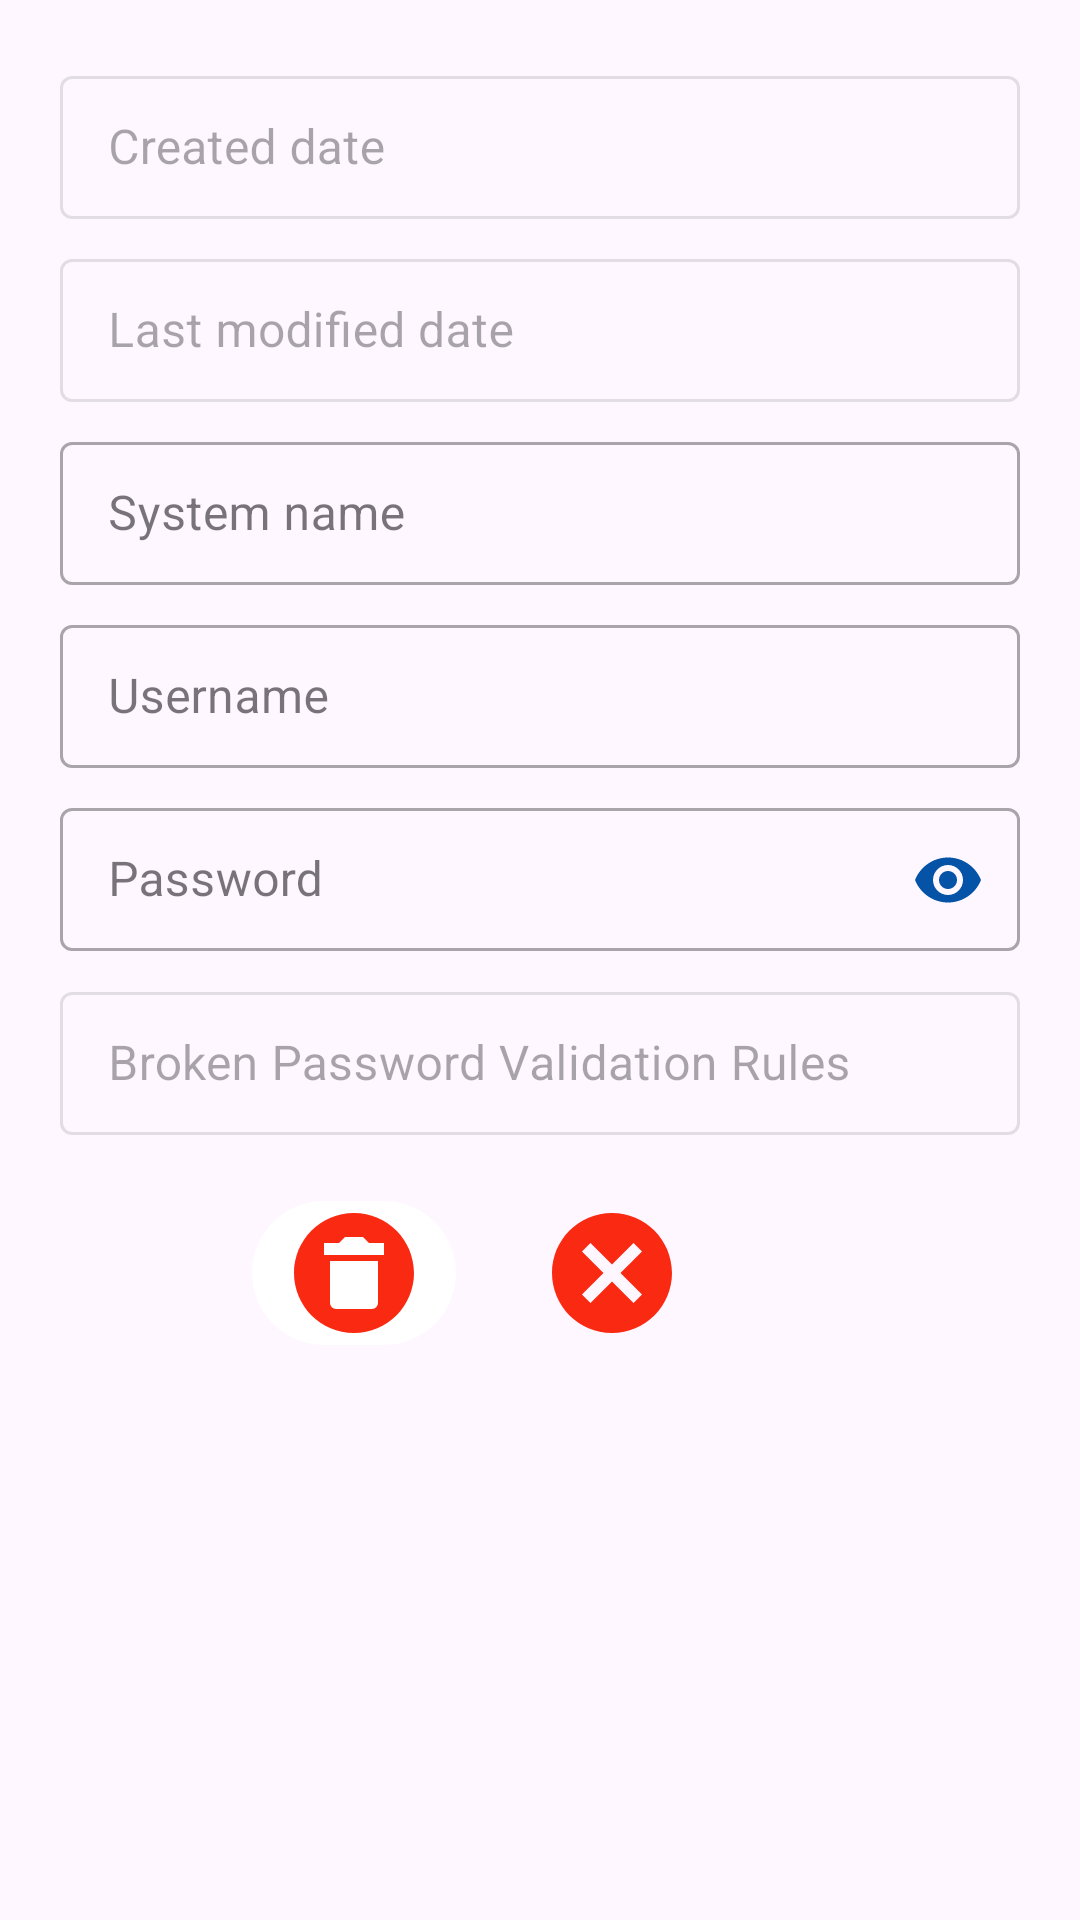

Screen size 1080px x 1920px. Icon name, then its box in pixels as [x1, y1, x2, y2]:
close: [552, 1213, 672, 1333]
delete: [294, 1213, 414, 1333]
